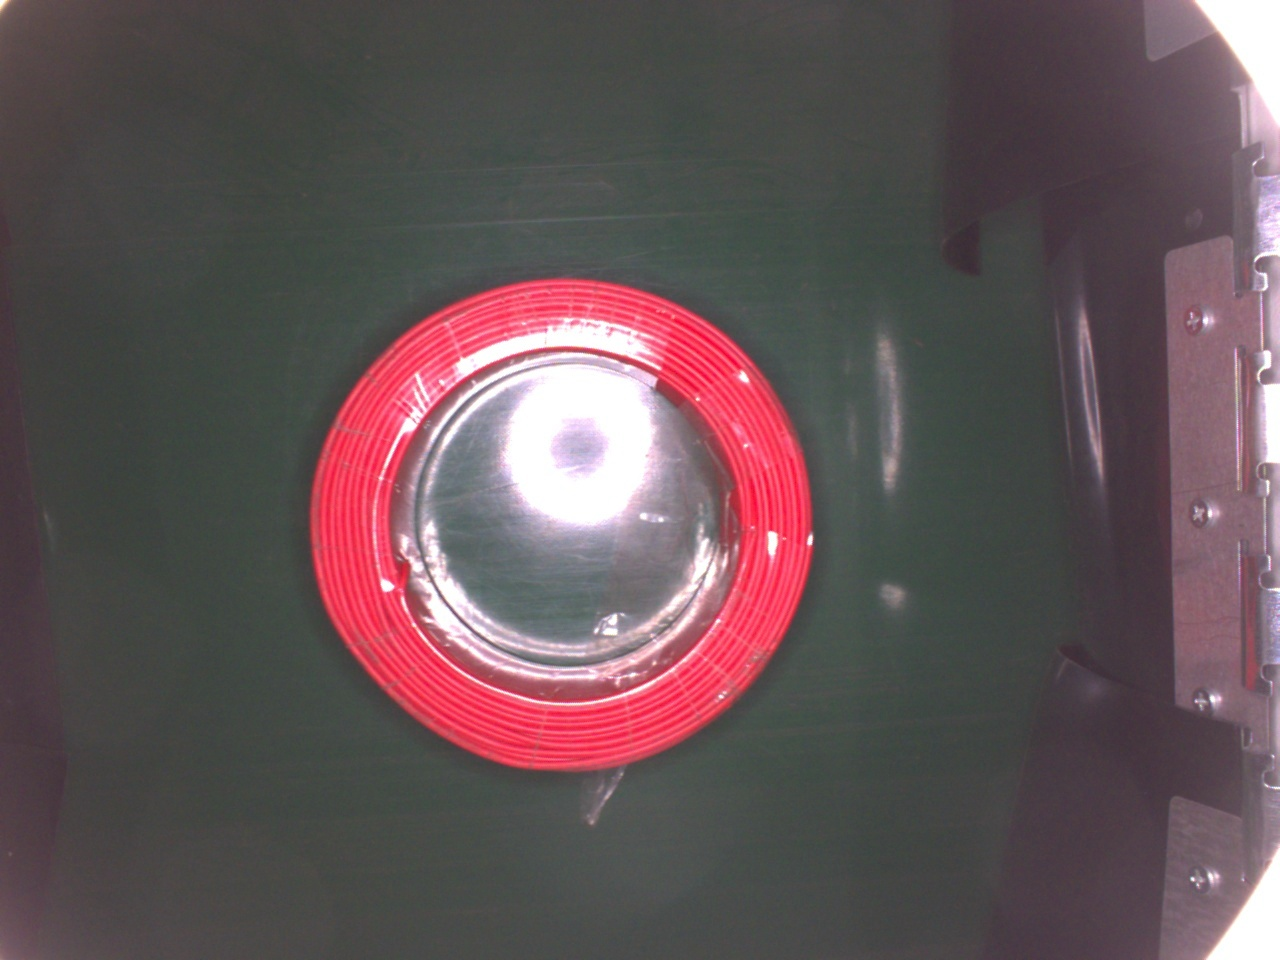red: (308, 277, 815, 772)
